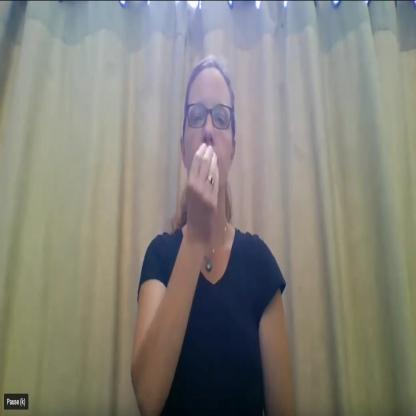Food: (169, 49, 256, 279)
